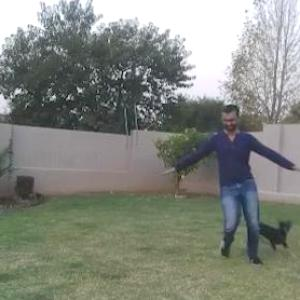land: (151, 100, 299, 271)
